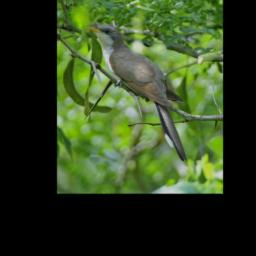Cuckoo: (85, 24, 187, 161)
